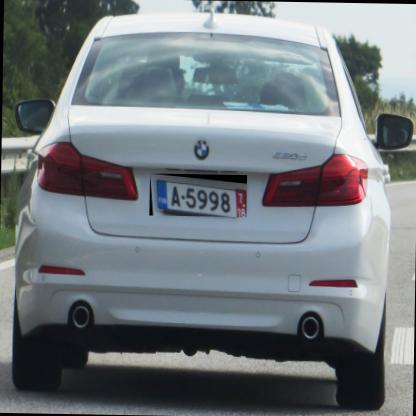Plates: (148, 174, 247, 218)
